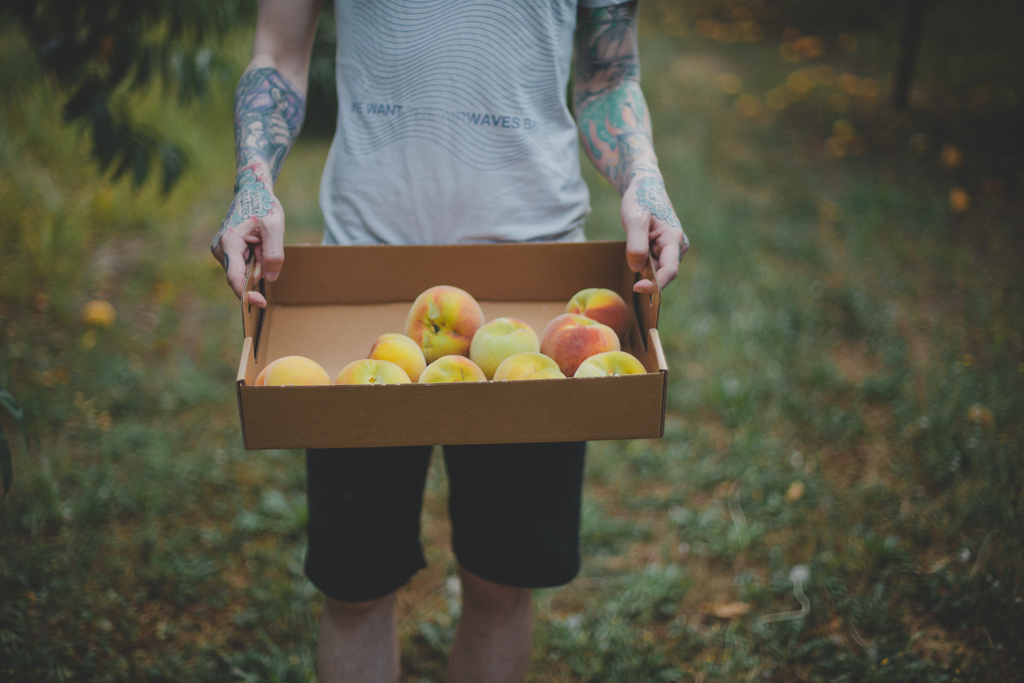Apple: (249, 286, 647, 384), (399, 285, 481, 358)
